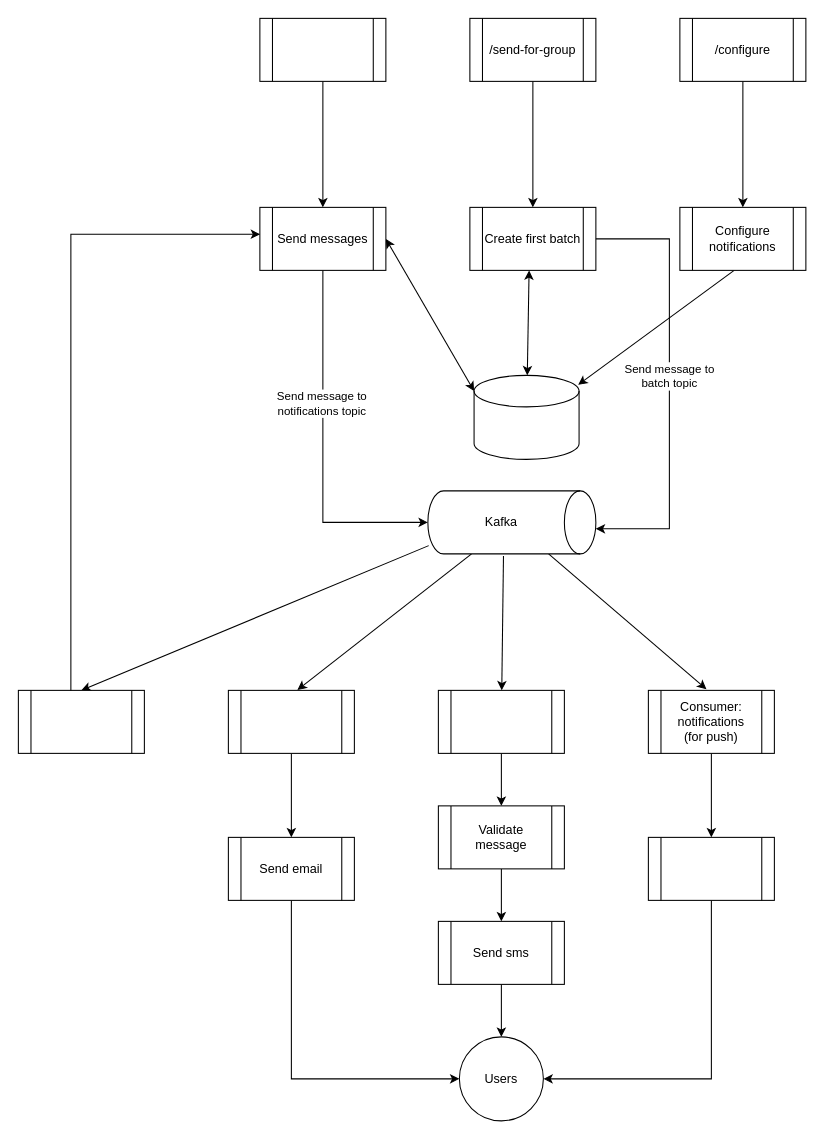
This 824x1139 diagram has some shape labels left out. Each missing label, with the box of its shape:
/send-one: (259, 17, 386, 81)
Consumer: batch: (17, 689, 144, 753)
Consumer: notifications (for emails): (227, 689, 354, 753)
Consumer: notifications (for sms): (437, 689, 564, 753)
PostgreSQL: (473, 374, 579, 459)
Send push: (647, 836, 774, 900)
